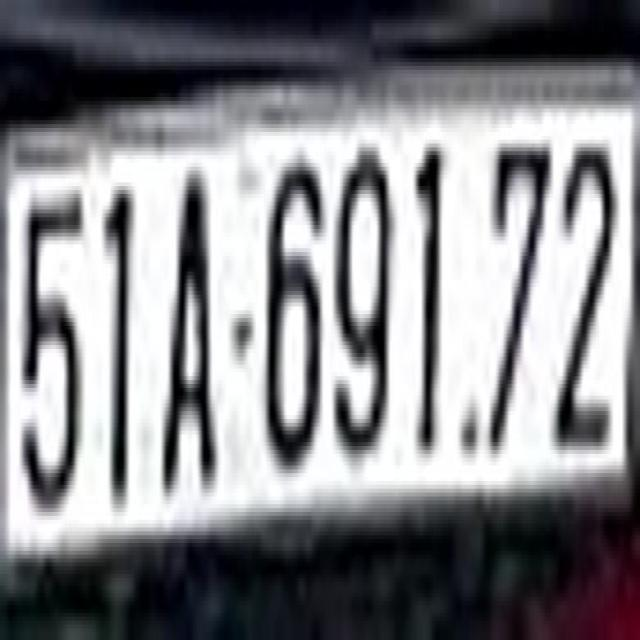1: (97, 151, 134, 524), (415, 151, 442, 462)
2: (555, 148, 618, 462)
5: (23, 182, 83, 516)
6: (271, 151, 325, 473)
7: (486, 143, 550, 466)
9: (333, 143, 391, 470)
A: (158, 159, 221, 493)
